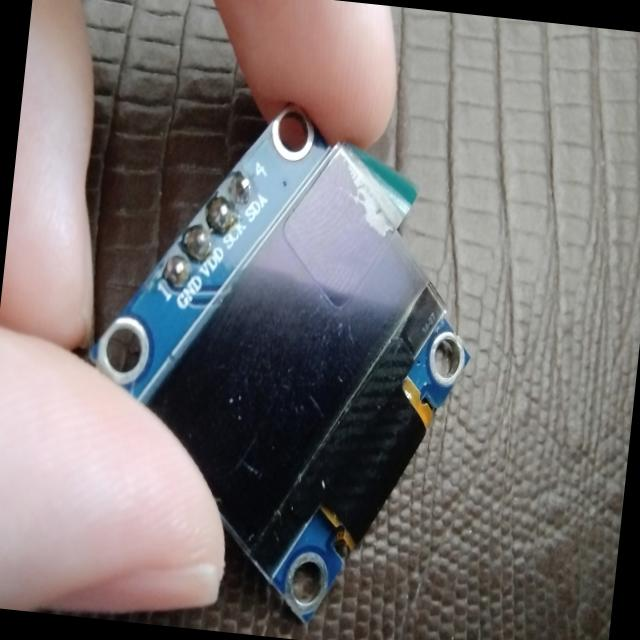oled: (57, 71, 506, 640)
